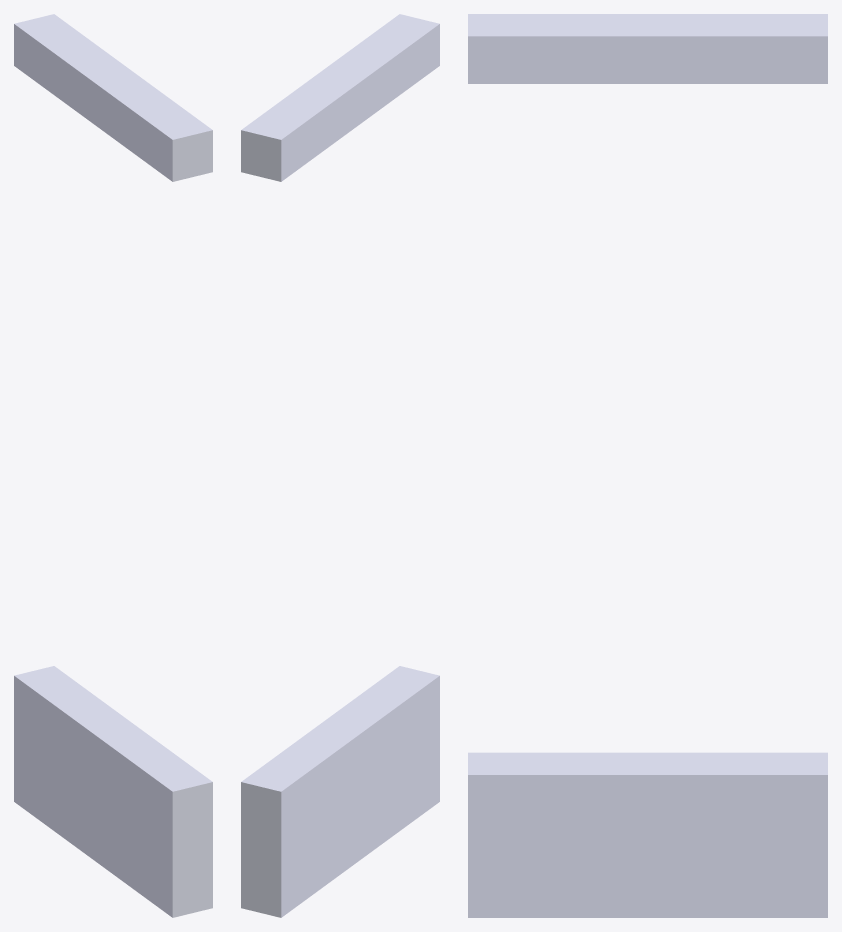
3 renders of one model, left to right at view 1: azimuth 30°, elevation 25°; view 2: azimuth 150°, elevation 25°; view 3: azimuth 270°, elevation 25°, orthographic. The views are drawn at different scales.
Visible parts, largest first — view 1: ;_AlphaProta_Grey; view 2: ;_AlphaProta_Grey; view 3: ;_AlphaProta_Grey.
Boxes of the visible parts, x1,y1,x2,y2 form: ;_AlphaProta_Grey: (14,14,212,917); ;_AlphaProta_Grey: (241,14,439,917); ;_AlphaProta_Grey: (468,14,827,917).
Size of what is drawn, in the model's own units: 0.00658 by 0.1217 by 0.045.
2 materials, 2 textured.
